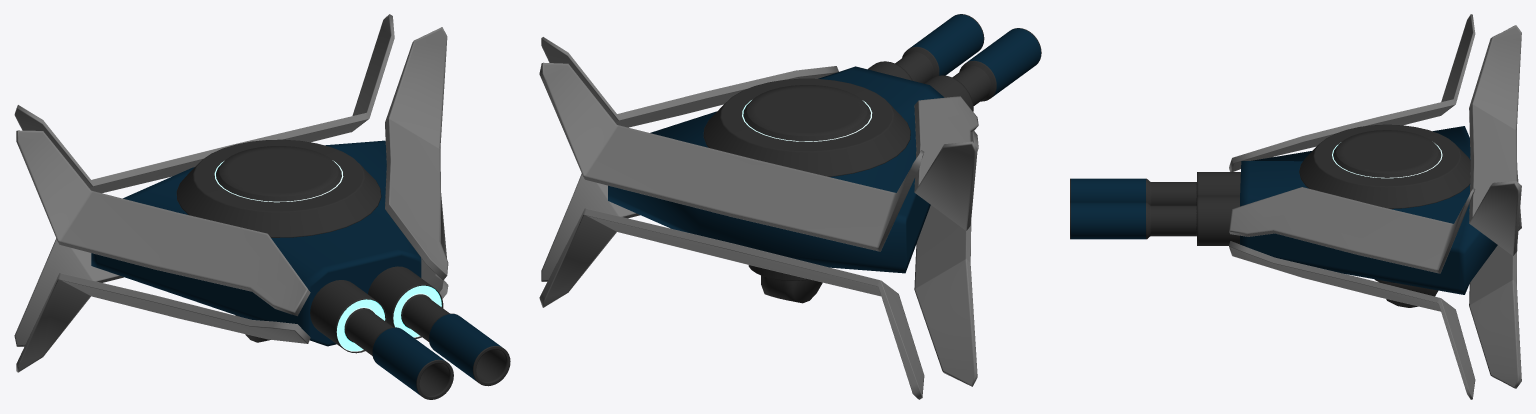
Rendered from TORRETAHead 1.fbx.
The picture shows the model from 3 angles, left to right: view 1: azimuth 30°, elevation 25°; view 2: azimuth 150°, elevation 25°; view 3: azimuth 270°, elevation 25°; orthographic projection. The views are drawn at different scales.
Visible parts, largest first — view 1: Head; view 2: Head; view 3: Head.
Part boxes in pixels (<box>): Head: <box>14,14,510,399</box>; Head: <box>539,14,1041,399</box>; Head: <box>1070,14,1521,399</box>.
Size of the model in its own units: 146 by 78.56 by 155.
